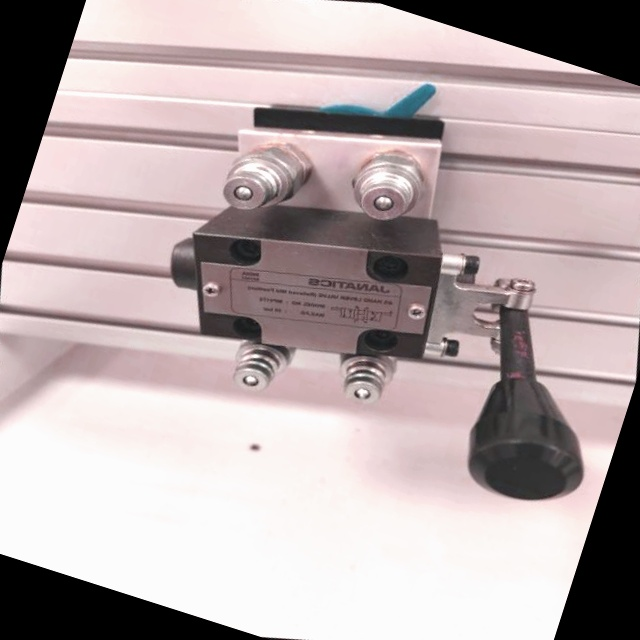4by3 hand lever valve: (51, 0, 640, 612)
